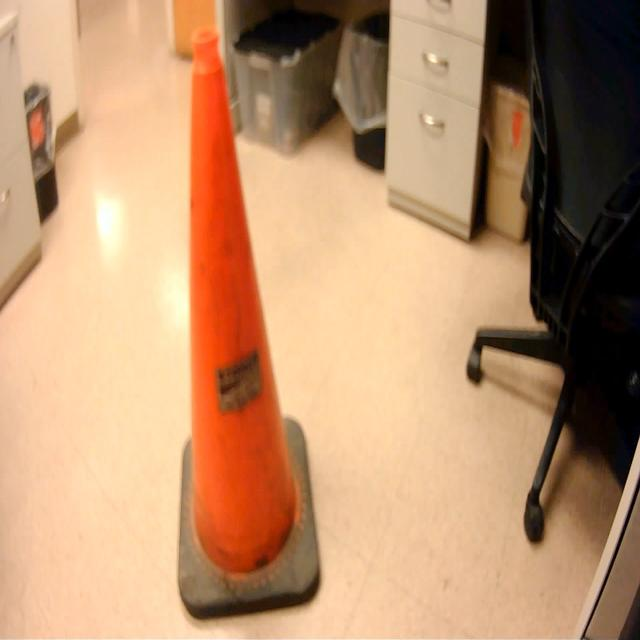traffic cone: (171, 17, 328, 630)
